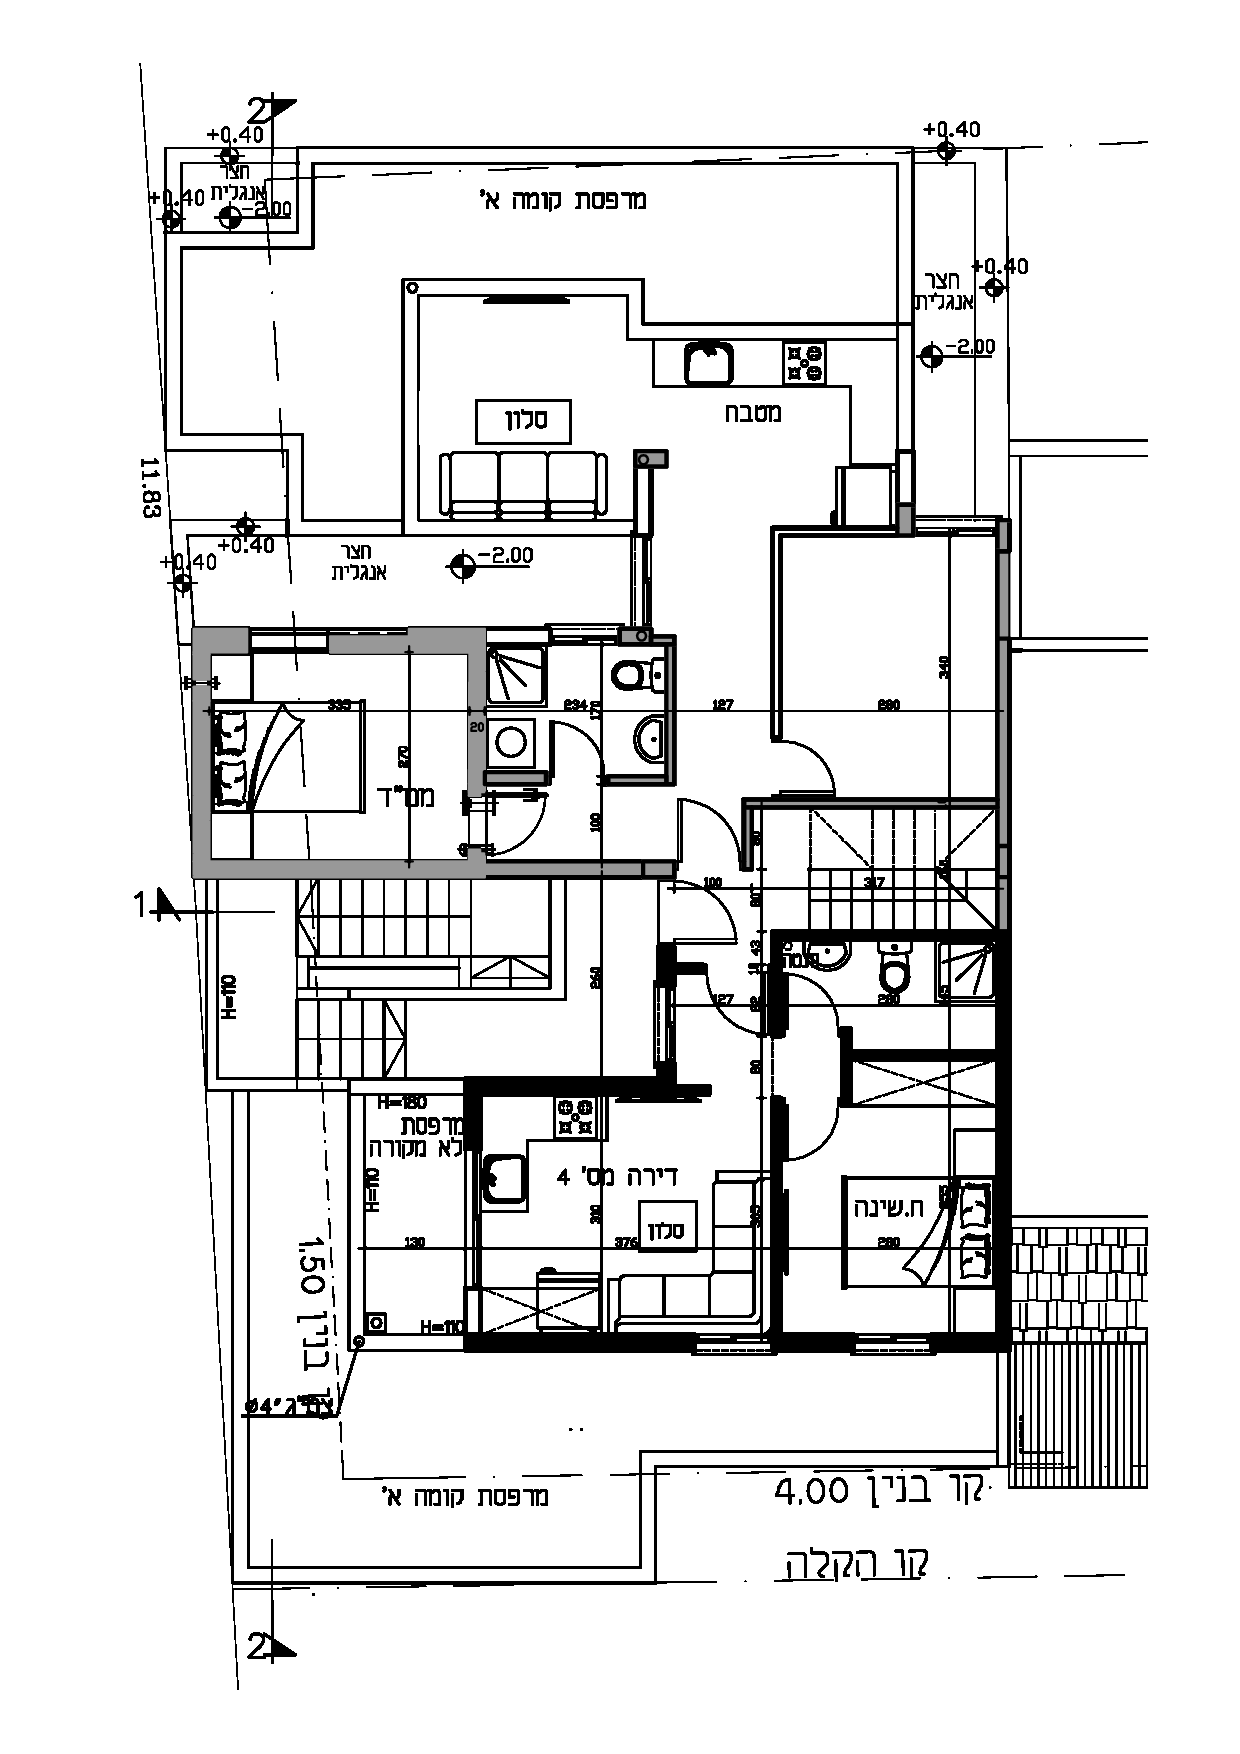door: (784, 1104, 845, 1176), (679, 784, 739, 855), (785, 721, 845, 792)
wall: (994, 927, 1015, 1347), (458, 1330, 694, 1354), (464, 1074, 701, 1098)
